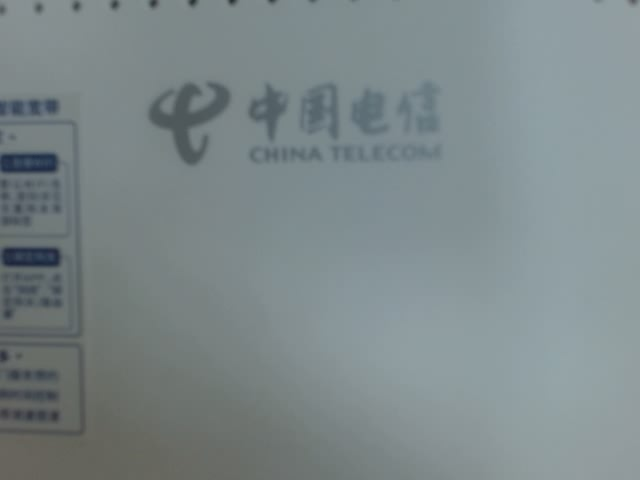AB_ChinaTelecom: (134, 63, 454, 178)
